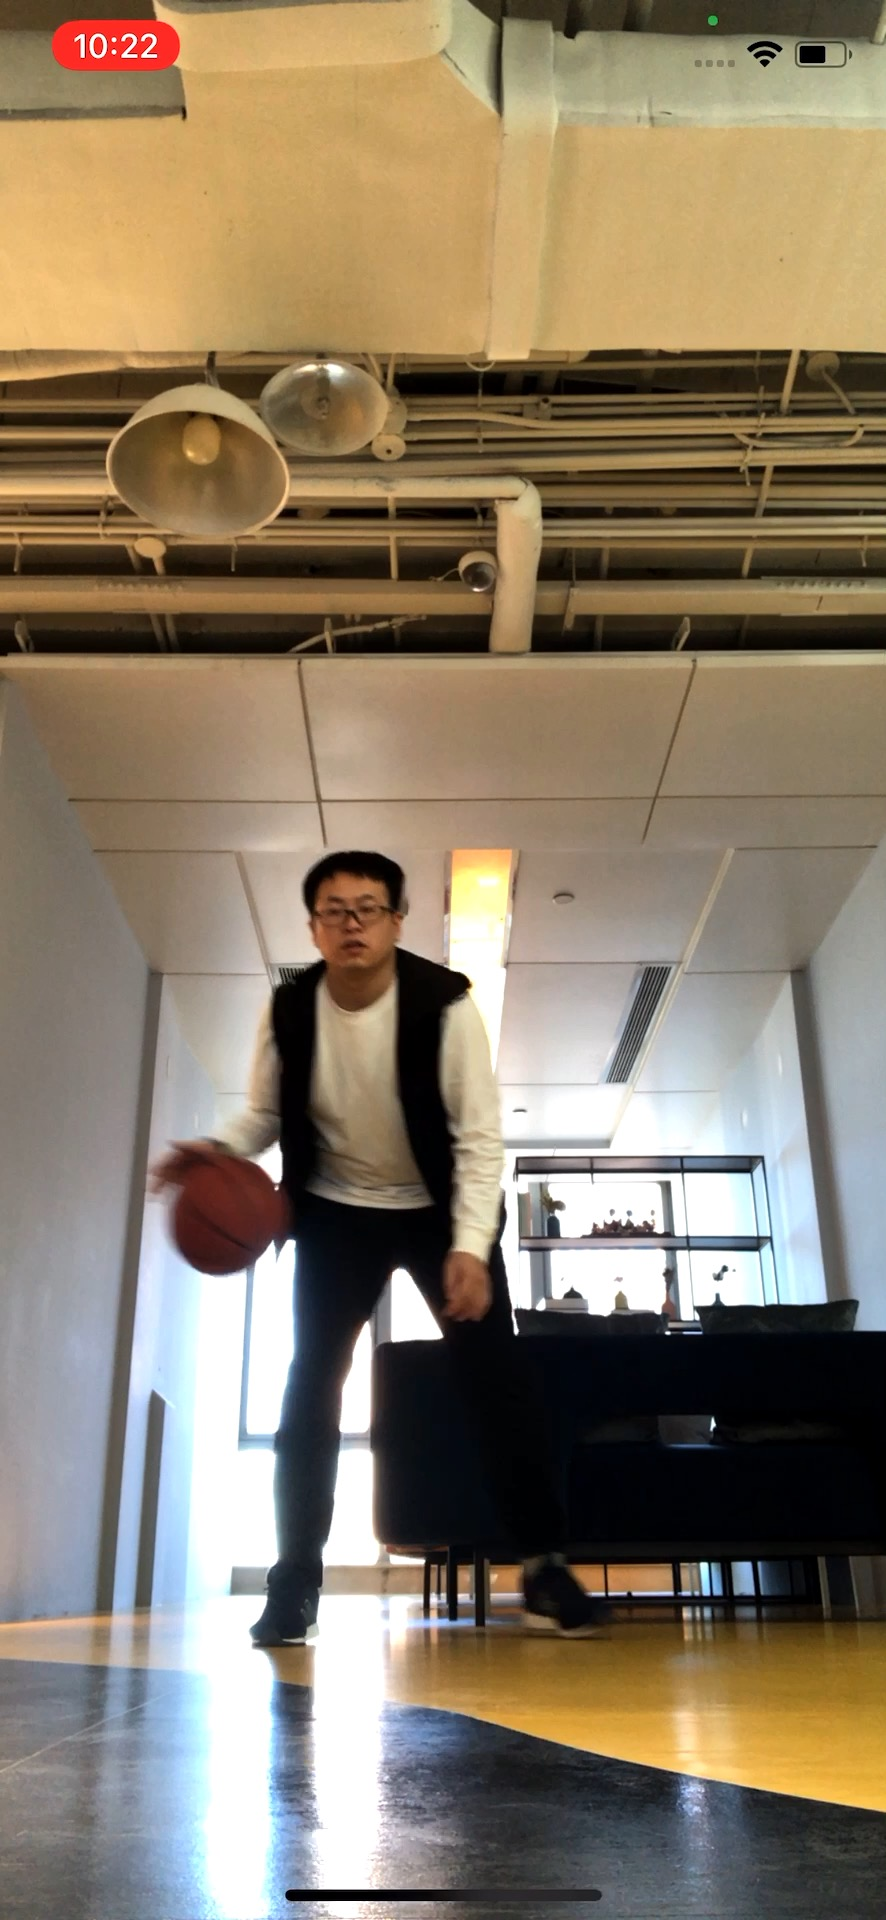ball: (173, 1155, 284, 1280)
